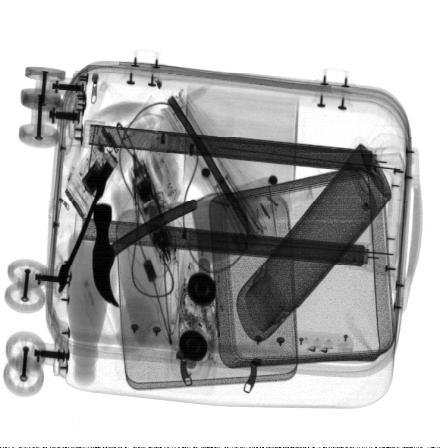Hammer: (91, 198, 198, 309)
Wrench: (58, 169, 107, 292)
